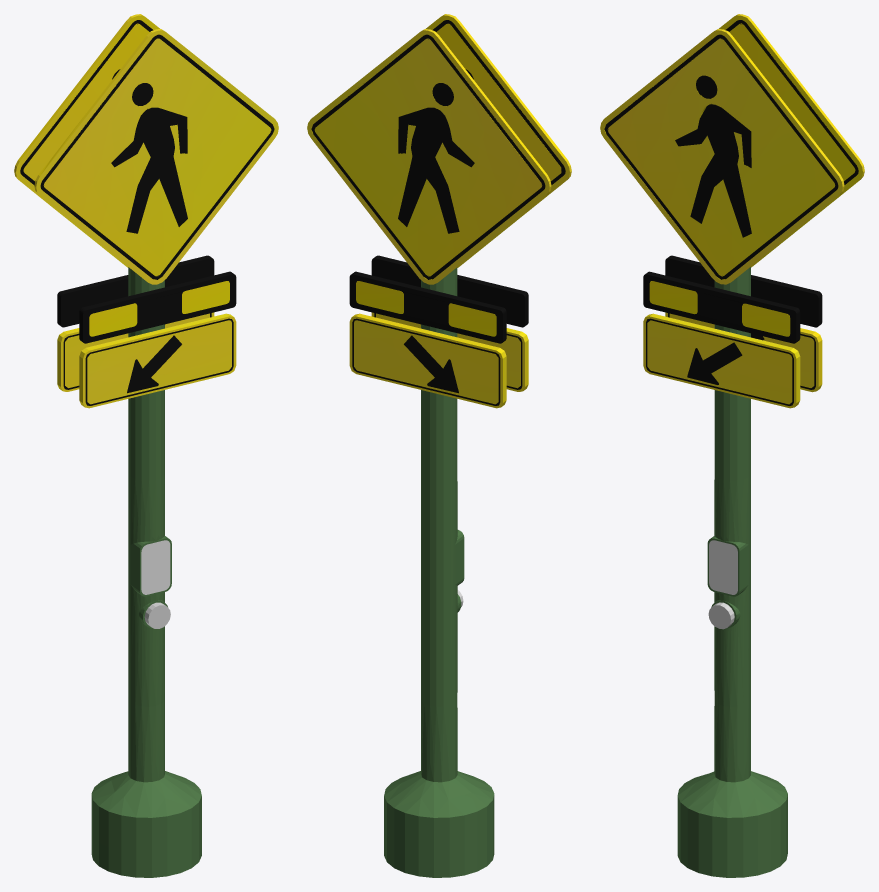
Rendered from rapid-flashing-beacon.glb.
3 views of the same model, side by side, from view 1: azimuth 30°, elevation 25°; view 2: azimuth 150°, elevation 25°; view 3: azimuth 330°, elevation 25° (orthographic).
Visible parts, largest first — view 1: rapid-flashing-beacon; view 2: rapid-flashing-beacon; view 3: rapid-flashing-beacon.
Boxes of the visible parts, x1,y1,x2,y2 form: rapid-flashing-beacon: [14, 14, 278, 877]; rapid-flashing-beacon: [307, 14, 571, 877]; rapid-flashing-beacon: [600, 14, 864, 877].
Size of the model in its own units: 0.8346 by 2.73 by 0.3258.
1 material, 1 textured.
